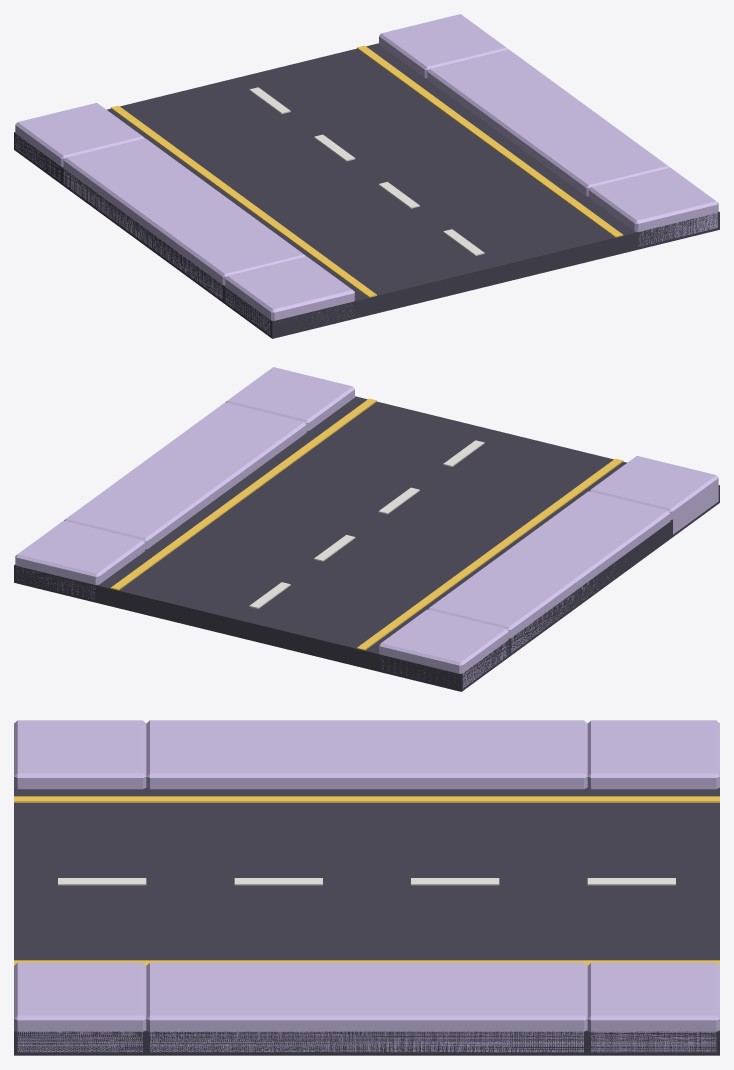
The model's file is road_straight.glb.
The picture shows the model from 3 angles, top to bottom: view 1: azimuth 30°, elevation 25°; view 2: azimuth 150°, elevation 25°; view 3: azimuth 270°, elevation 25°; orthographic projection. The views are drawn at different scales.
Parts seen in each view (by area): view 1: road_straight; view 2: road_straight; view 3: road_straight.
Boxes of the visible parts, x1,y1,x2,y2 form: road_straight: (14,14,719,338); road_straight: (14,367,719,691); road_straight: (14,720,719,1055).
Bounding box in the file's own units: 8 × 0.48 × 8.
